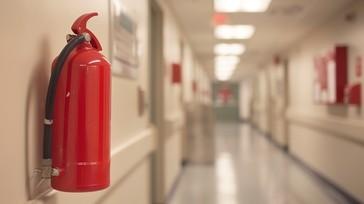wall-mounted: (30, 10, 121, 198)
